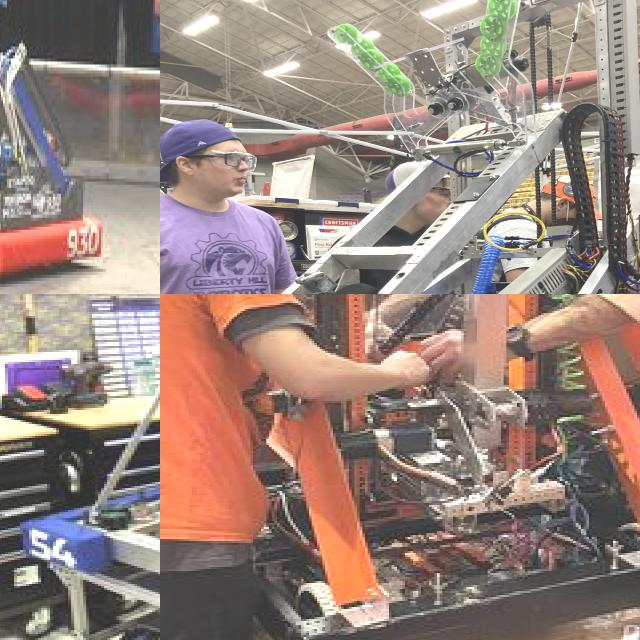FRC-Robots: (160, 0, 640, 294), (257, 294, 640, 598), (0, 0, 146, 269), (68, 294, 160, 640)
